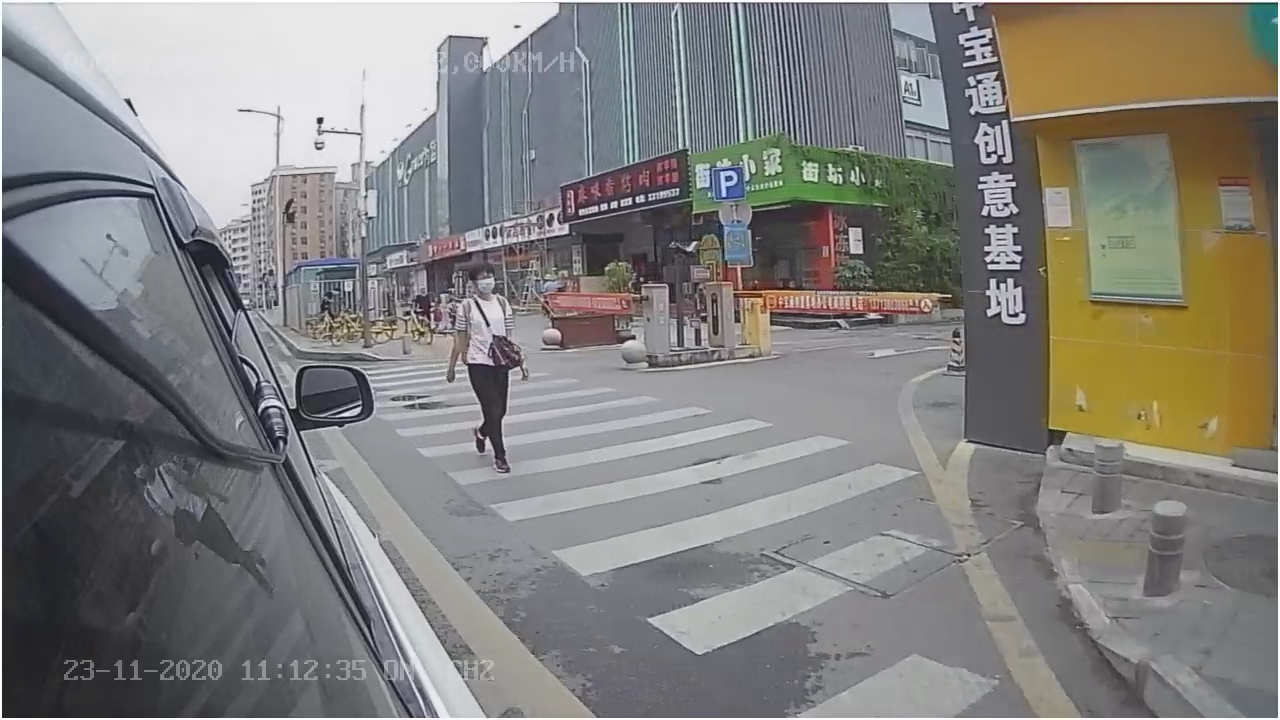person: (438, 264, 533, 474)
